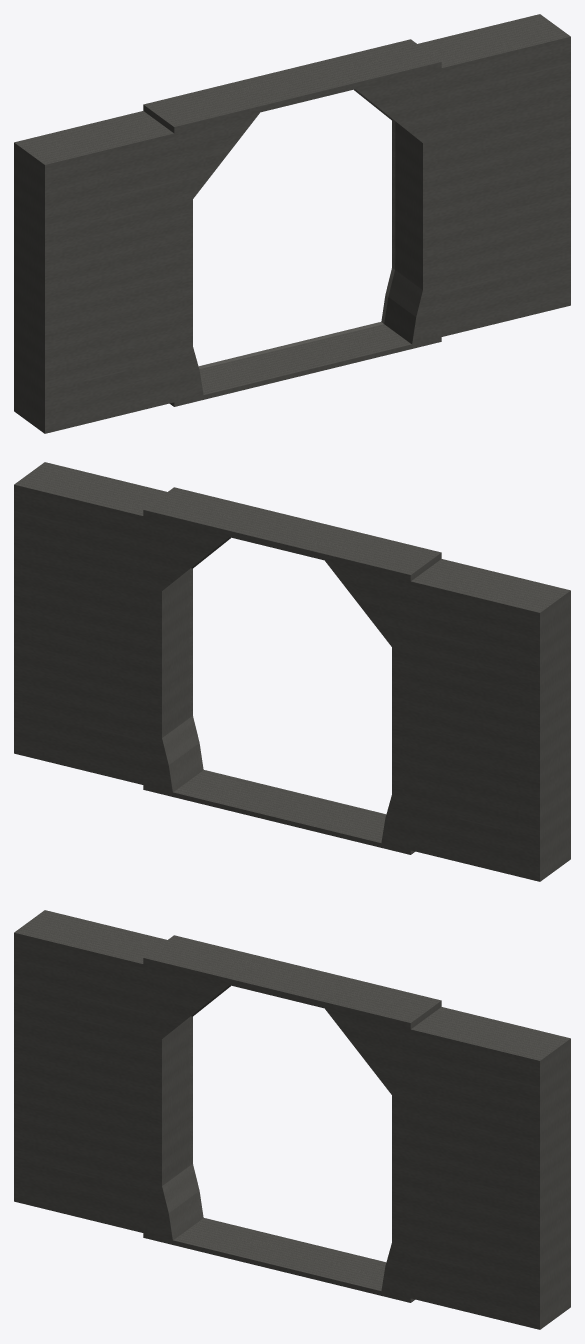
The model's file is destiny_ship_airlock_frame.obj.
3 renders of one model, top to bottom at view 1: azimuth 30°, elevation 25°; view 2: azimuth 150°, elevation 25°; view 3: azimuth 330°, elevation 25°, orthographic.
Parts seen in each view (by area): view 1: Original_profile_frame; view 2: Original_profile_frame; view 3: Original_profile_frame.
Boxes of the visible parts, x1,y1,x2,y2 form: Original_profile_frame: [14, 14, 570, 433]; Original_profile_frame: [14, 462, 570, 881]; Original_profile_frame: [14, 910, 570, 1329].
Size of the model in its own units: 5.9 by 3 by 0.6.
